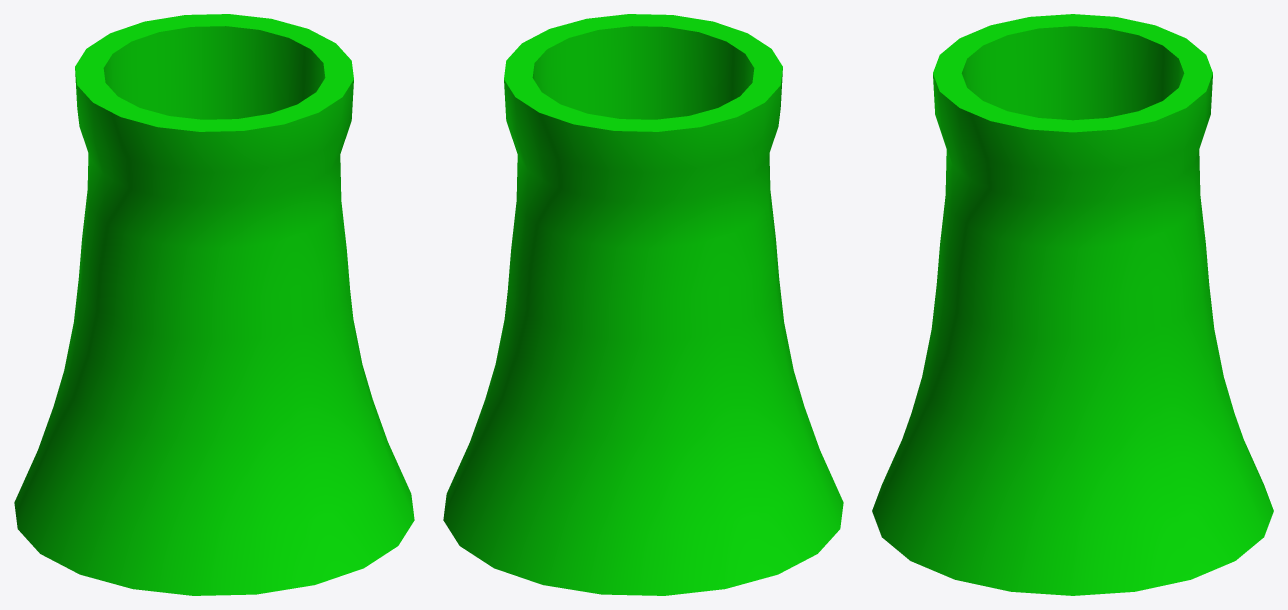
File: Cemen_Pipe_1.fbx
3 renders of one model, left to right at view 1: azimuth 30°, elevation 25°; view 2: azimuth 150°, elevation 25°; view 3: azimuth 270°, elevation 25°, orthographic.
Parts seen in each view (by area): view 1: Cemen_Pipe_1; view 2: Cemen_Pipe_1; view 3: Cemen_Pipe_1.
Part boxes in pixels (x1,y1,x2,y2): Cemen_Pipe_1: (14, 14, 414, 595); Cemen_Pipe_1: (443, 14, 843, 595); Cemen_Pipe_1: (872, 14, 1273, 595).
Size of the model in its own units: 94.96 by 114 by 94.96.
